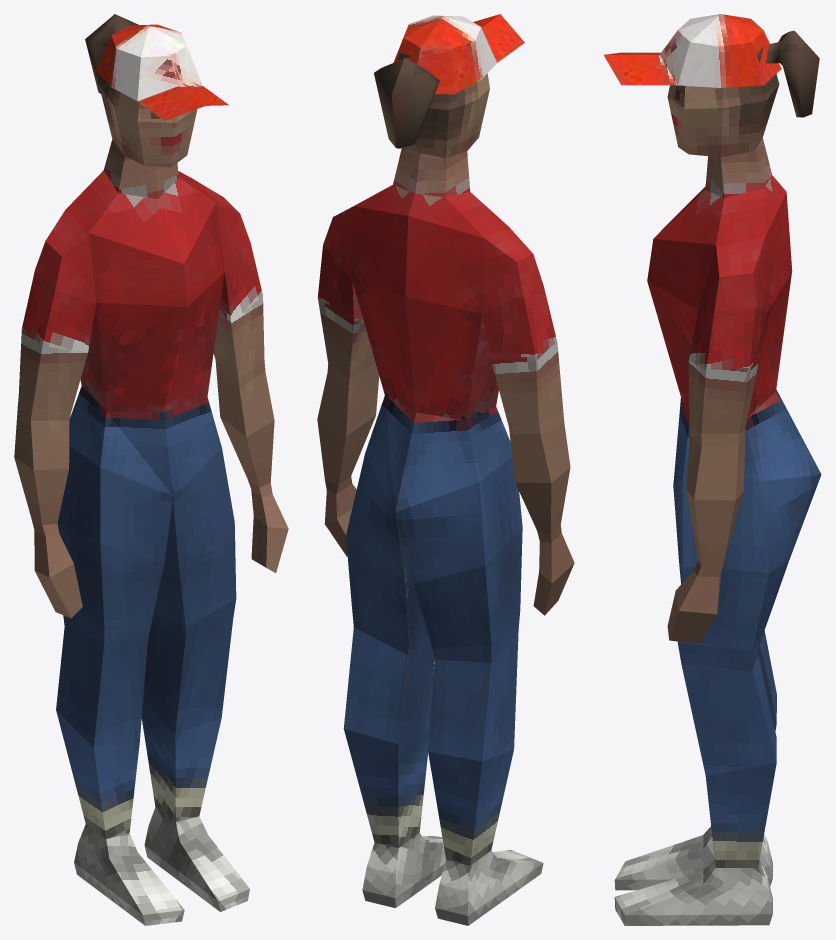
File: pizzagirl.glb
3 views of the same model, side by side, from view 1: azimuth 30°, elevation 25°; view 2: azimuth 150°, elevation 25°; view 3: azimuth 270°, elevation 25° (orthographic). The views are drawn at different scales.
Visible parts, largest first — view 1: pizzagal, Sphere; view 2: pizzagal, Sphere; view 3: pizzagal, Sphere.
Part boxes in pixels (<box>): pizzagal: <box>14,14,288,925</box>; Sphere: <box>96,24,228,120</box>; pizzagal: <box>317,52,574,925</box>; Sphere: <box>393,14,524,94</box>; pizzagal: <box>614,30,821,925</box>; Sphere: <box>603,14,781,87</box>.
Bounding box in the file's own units: 0.5385 × 1.83 × 0.4095.
2 materials, 2 textured.
